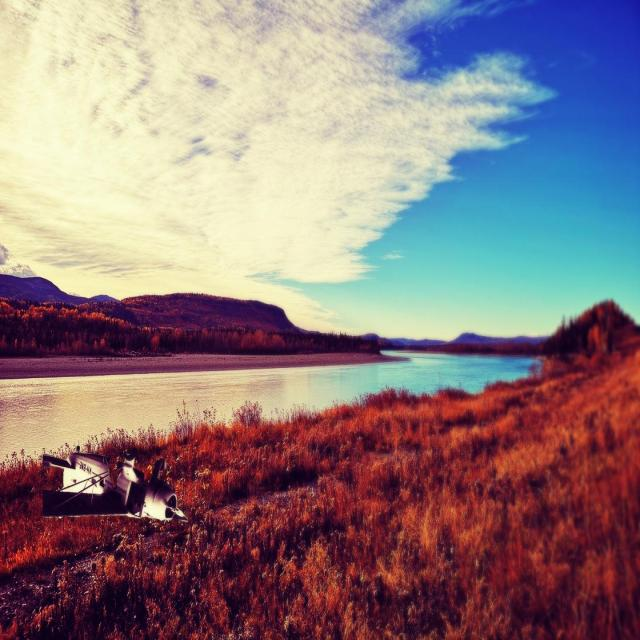airplane: (40, 449, 188, 525)
